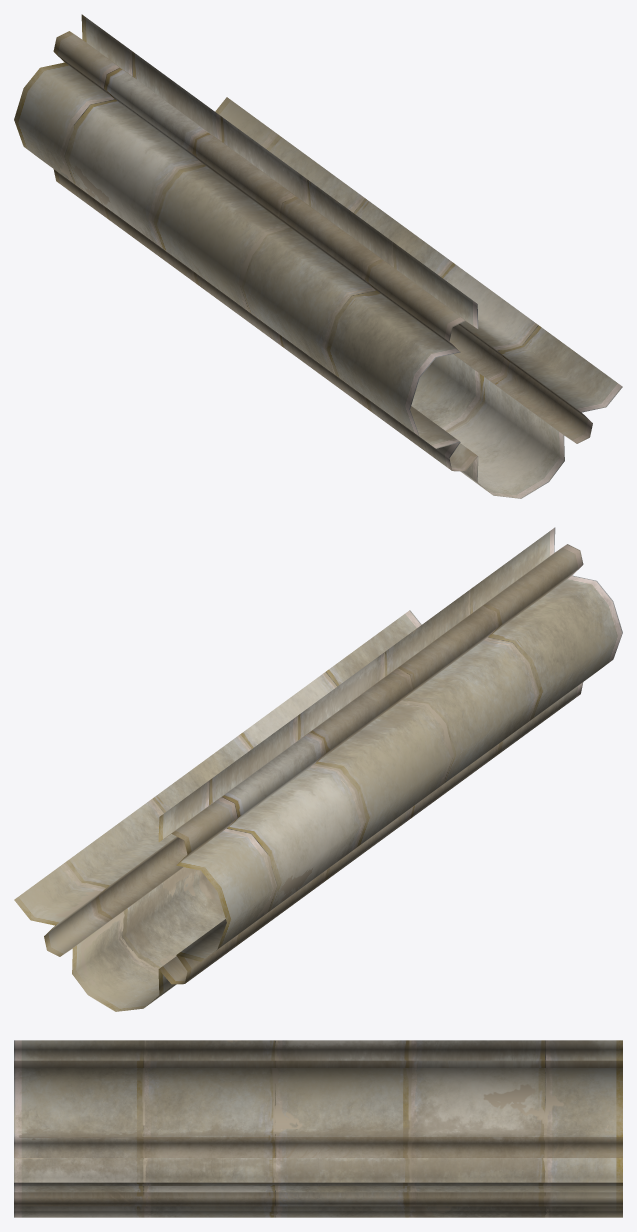
The model's file is Cath_Column_part2.FBX.
3 renders of one model, top to bottom at view 1: azimuth 30°, elevation 25°; view 2: azimuth 150°, elevation 25°; view 3: azimuth 270°, elevation 25°, orthographic. The views are drawn at different scales.
Visible parts, largest first — view 1: Cath_Column_part2; view 2: Cath_Column_part2; view 3: Cath_Column_part2.
Boxes of the visible parts, x1,y1,x2,y2 form: Cath_Column_part2: (14,14,622,498); Cath_Column_part2: (14,527,622,1011); Cath_Column_part2: (14,1040,622,1217).
Bounding box in the file's own units: 115 × 371 × 106.
